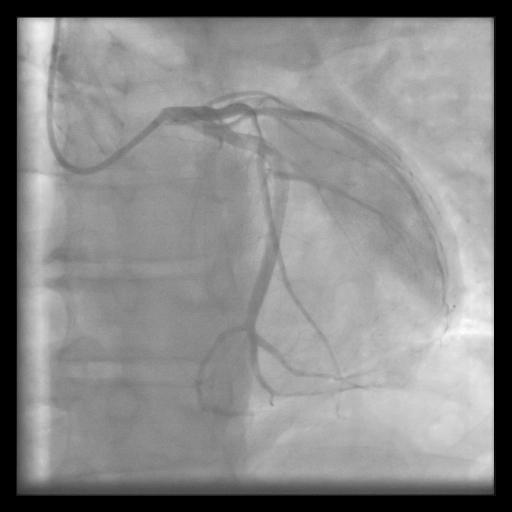Stenosis: (248, 117, 266, 149)
